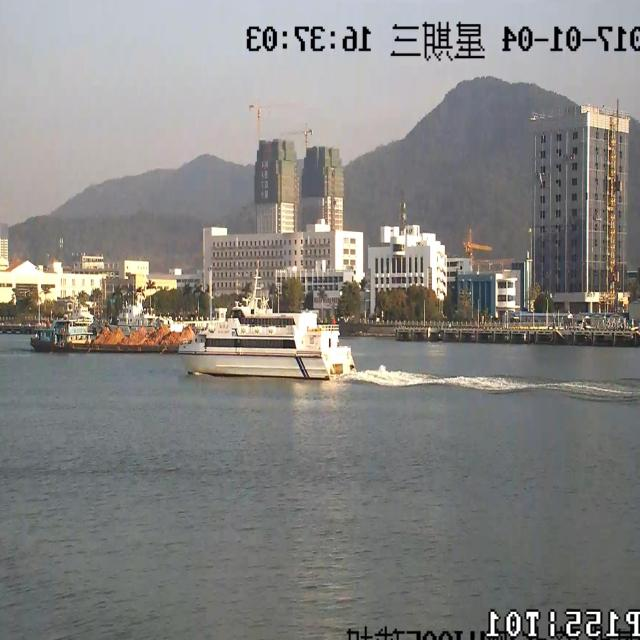cargoship: (16, 298, 208, 355)
passenger ship: (175, 283, 352, 381)
